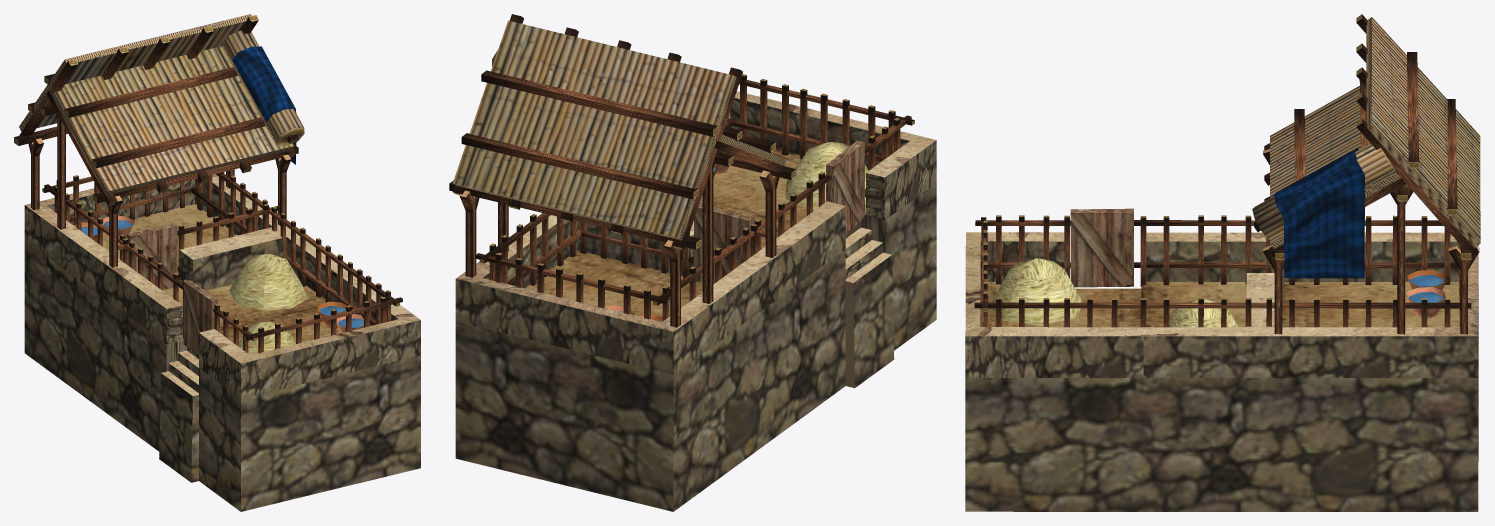
Rendered from corral.dae.
The picture shows the model from 3 angles, left to right: view 1: azimuth 30°, elevation 25°; view 2: azimuth 150°, elevation 25°; view 3: azimuth 270°, elevation 25°; orthographic projection. The views are drawn at different scales.
Visible parts, largest first — view 1: corral; view 2: corral; view 3: corral.
Boxes of the visible parts, box(x1,y1,x2,y2) form: corral: box(14, 14, 420, 511); corral: box(449, 14, 936, 511); corral: box(965, 14, 1480, 511).
Bounding box in the file's own units: 8.27 × 15.28 × 12.79.
